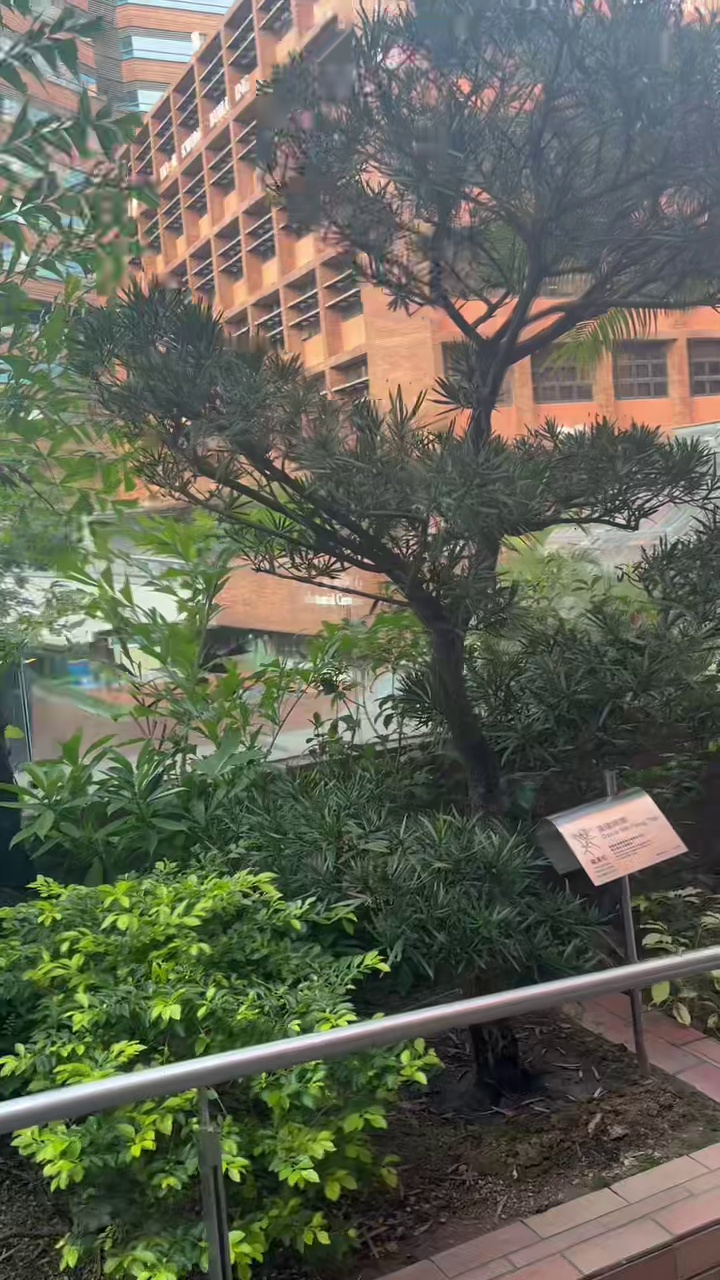Podocarpus macrophyllus: (71, 0, 719, 811)
